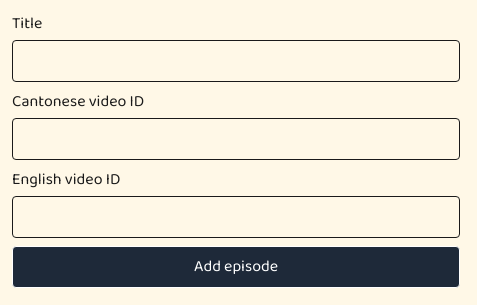
Test: NewEpisodeForm › auto-populates the title from the English video only
This screenshot has width=477, height=305.
Type "eng-456" into the field labelled "English video ID" at [236, 217], box [12,196,460,238]
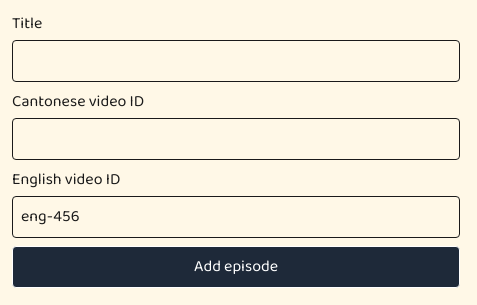
Leave the field labelled "English video ID", box [12,196,460,238]
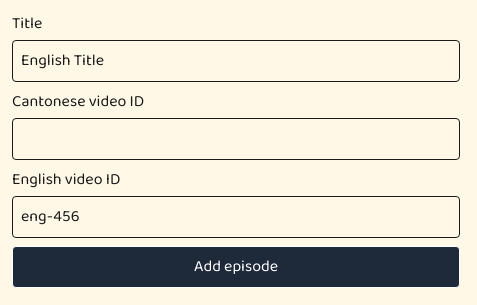
expect the field labelled "Title" holds "English Title": met, box [12,40,460,82]
